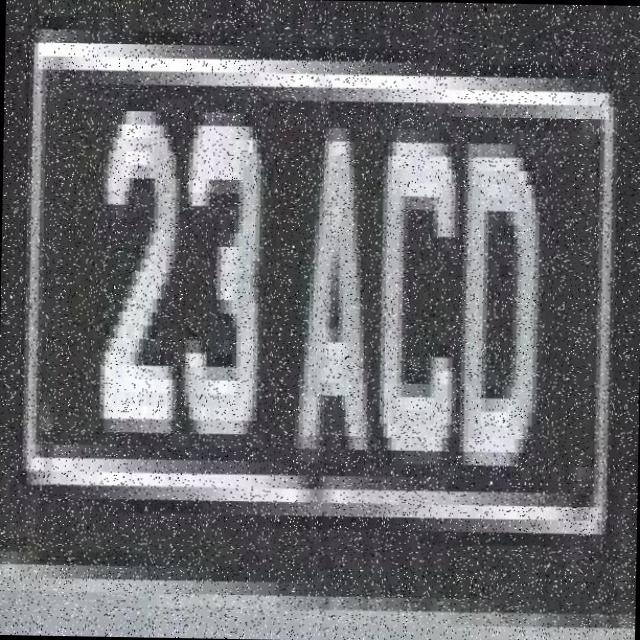LicensePlate: (0, 6, 621, 620)
